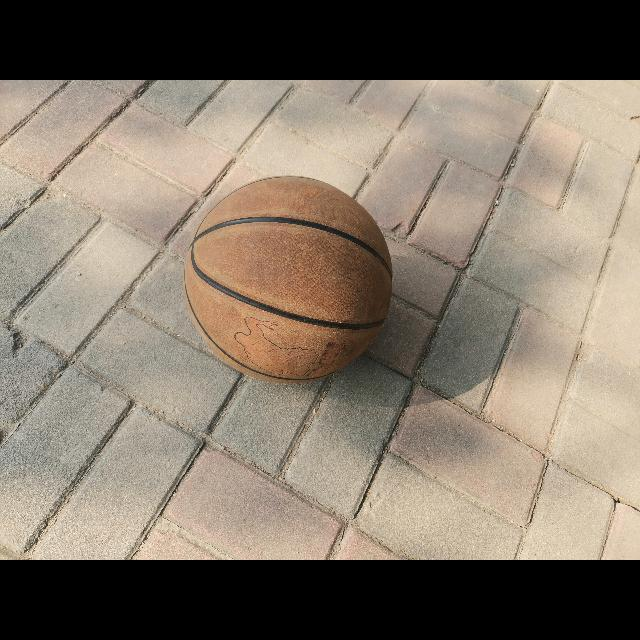basketball: (185, 176, 393, 380)
